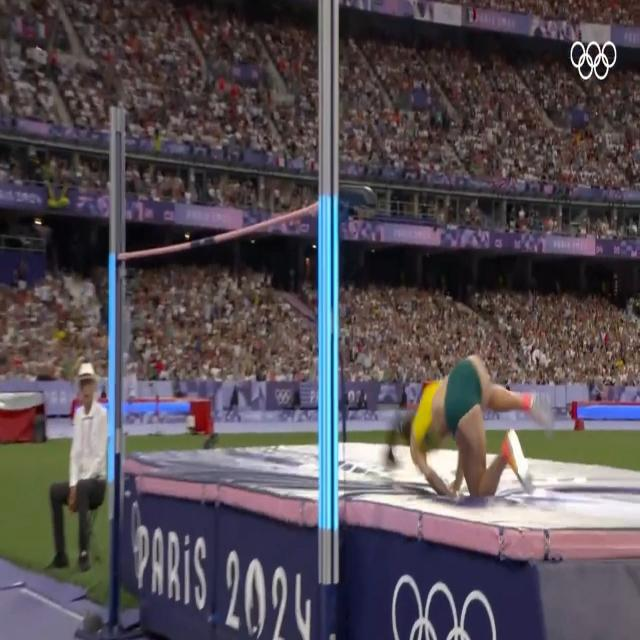land: (404, 355, 538, 494)
